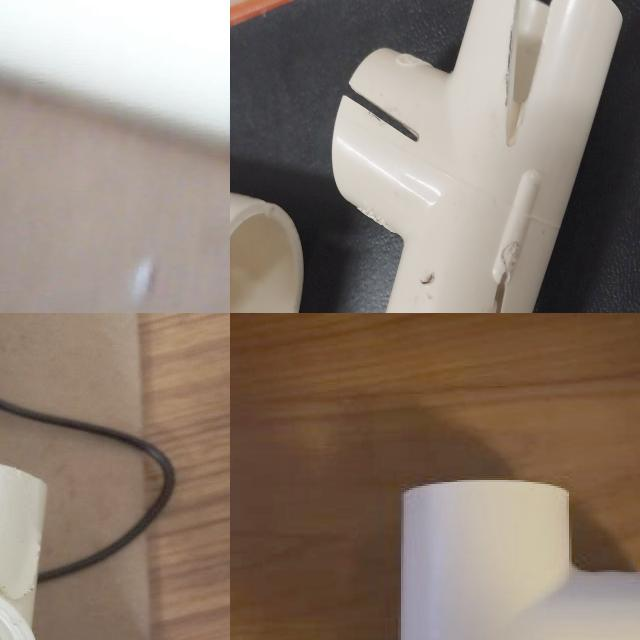Defective: (0, 464, 45, 620), (288, 0, 329, 93), (411, 257, 441, 313)
T Joint: (398, 480, 640, 640), (230, 0, 375, 205)
